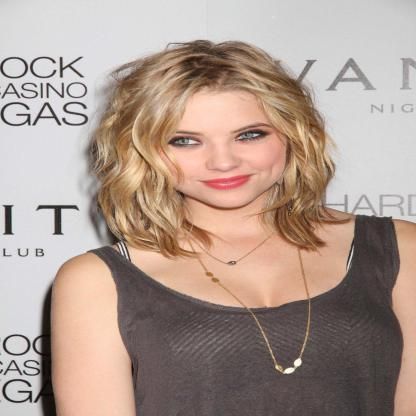long-hair: (80, 211, 356, 242)
